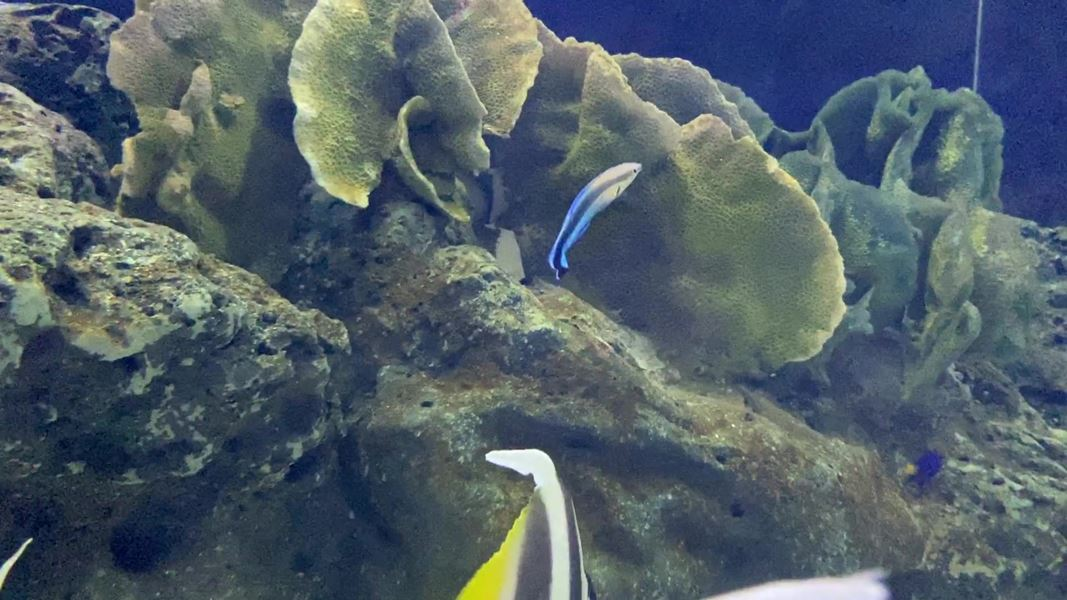Bluesteak cleaner wrasse: (546, 148, 649, 286)
